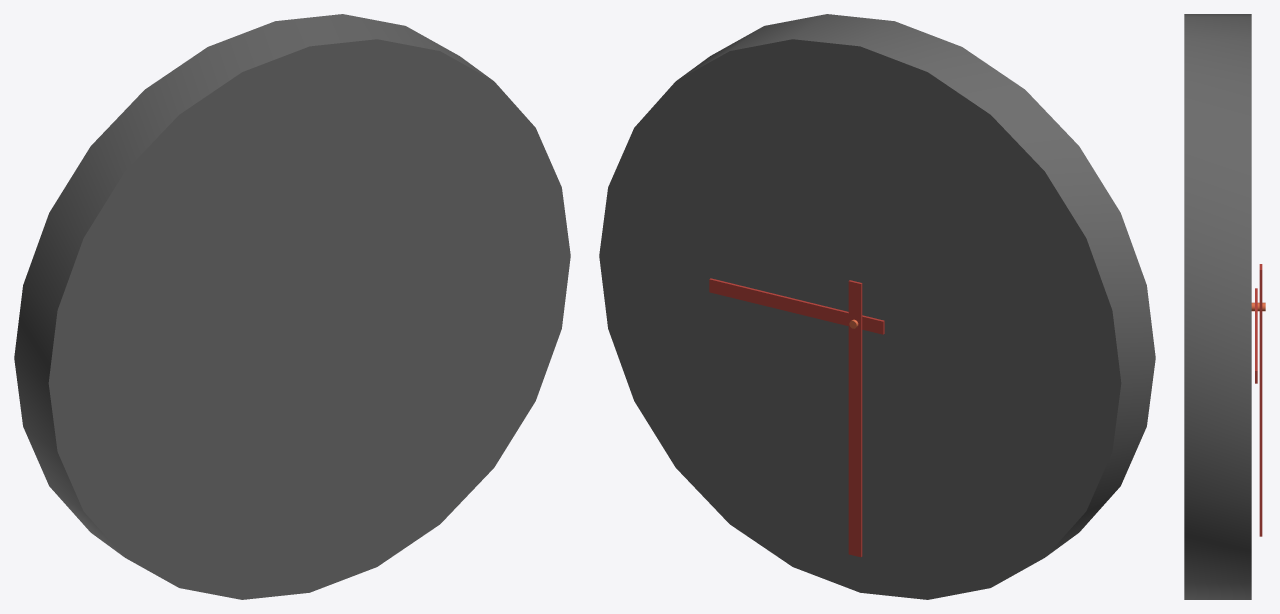
File: Clocks.glb
3 renders of one model, left to right at view 1: azimuth 30°, elevation 25°; view 2: azimuth 150°, elevation 25°; view 3: azimuth 270°, elevation 25°, orthographic. The views are drawn at different scales.
Parts seen in each view (by area): view 1: Clock; view 2: Clock, ArmMinutes, ArmHours; view 3: Clock, ArmMinutes, ArmHours.
Boxes of the visible parts, x1,y1,x2,y2 form: Clock: (14,14,570,599); Clock: (599,14,1155,599); ArmMinutes: (848,280,862,557); ArmHours: (709,278,884,334); Clock: (1184,14,1251,599); ArmMinutes: (1259,264,1262,536); ArmHours: (1255,288,1257,383).
Size of the model in its own units: 0.2625 by 0.2625 by 0.0362.
